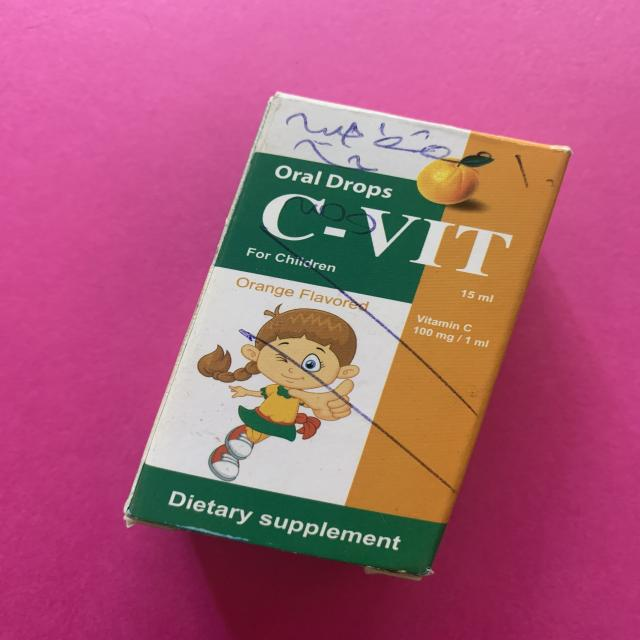C-VIT: (123, 88, 578, 604)
